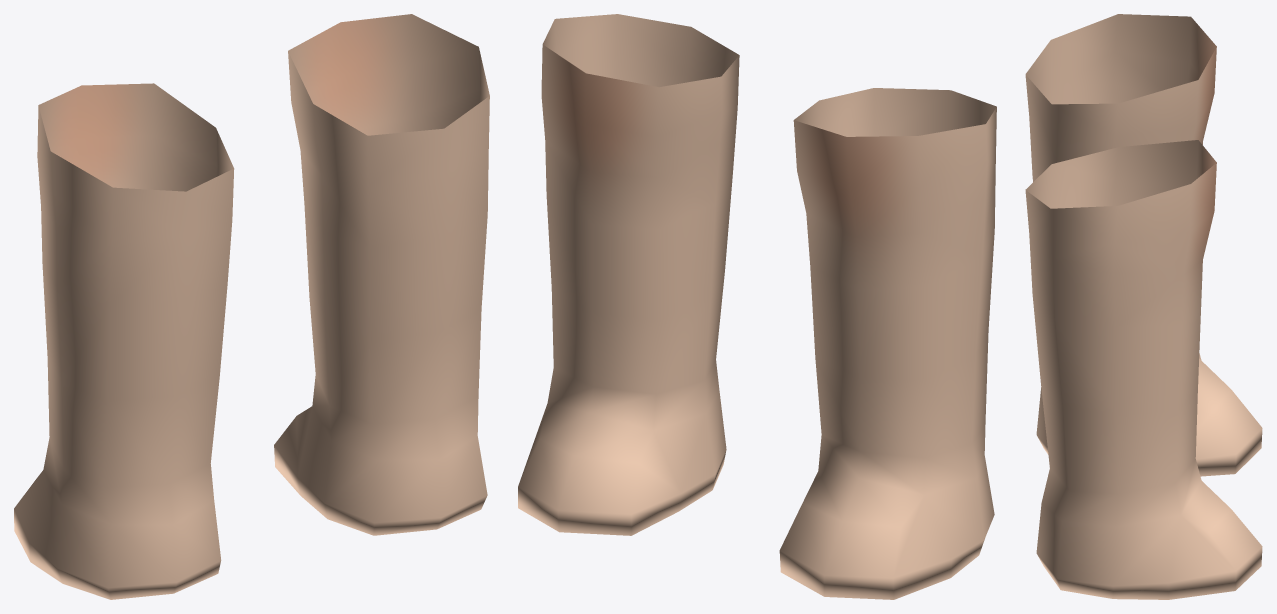
The model's file is Body_LegA_1.fbx.
The picture shows the model from 3 angles, left to right: view 1: azimuth 30°, elevation 25°; view 2: azimuth 150°, elevation 25°; view 3: azimuth 270°, elevation 25°; orthographic projection. The views are drawn at different scales.
Visible parts, largest first — view 1: Body_LegA_1; view 2: Body_LegA_1; view 3: Body_LegA_1.
Part boxes in pixels (x1,y1,x2,y2): Body_LegA_1: [14, 14, 489, 599]; Body_LegA_1: [518, 14, 996, 599]; Body_LegA_1: [1025, 14, 1262, 599].
Size of the model in its own units: 32.55 by 32.2 by 16.99.
